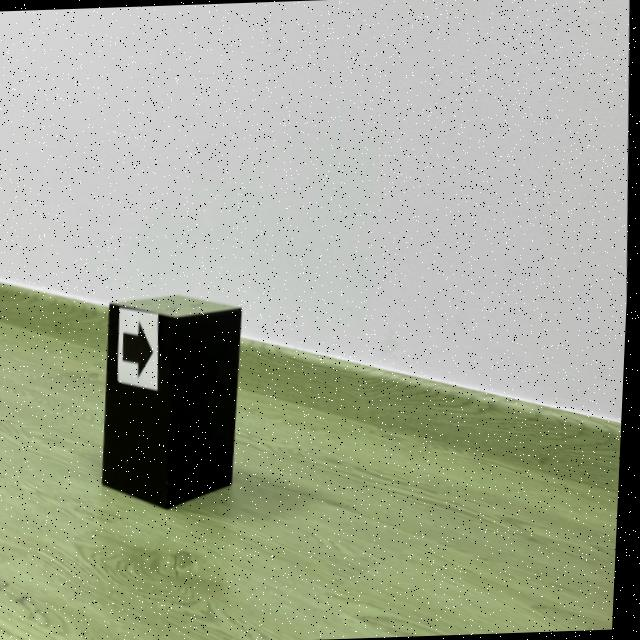RIGHT: (125, 322, 156, 376)
